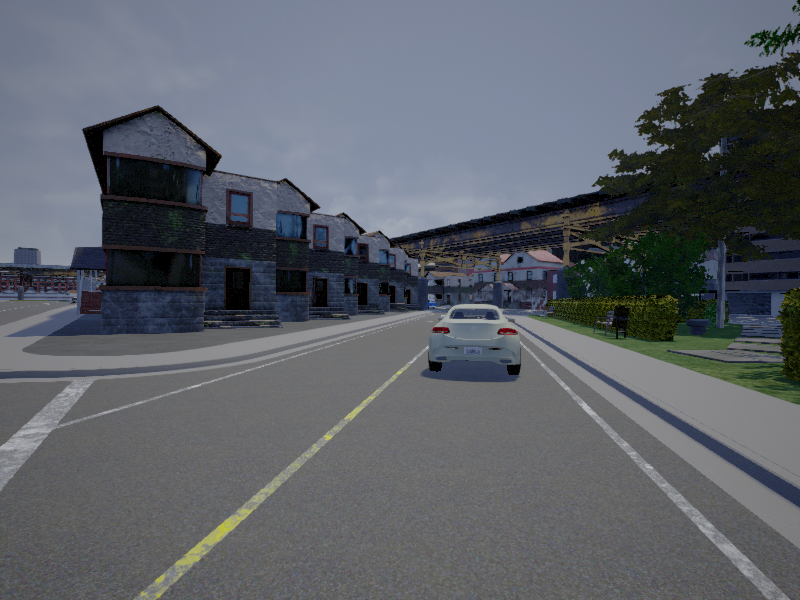Benign: (426, 304, 524, 381)
